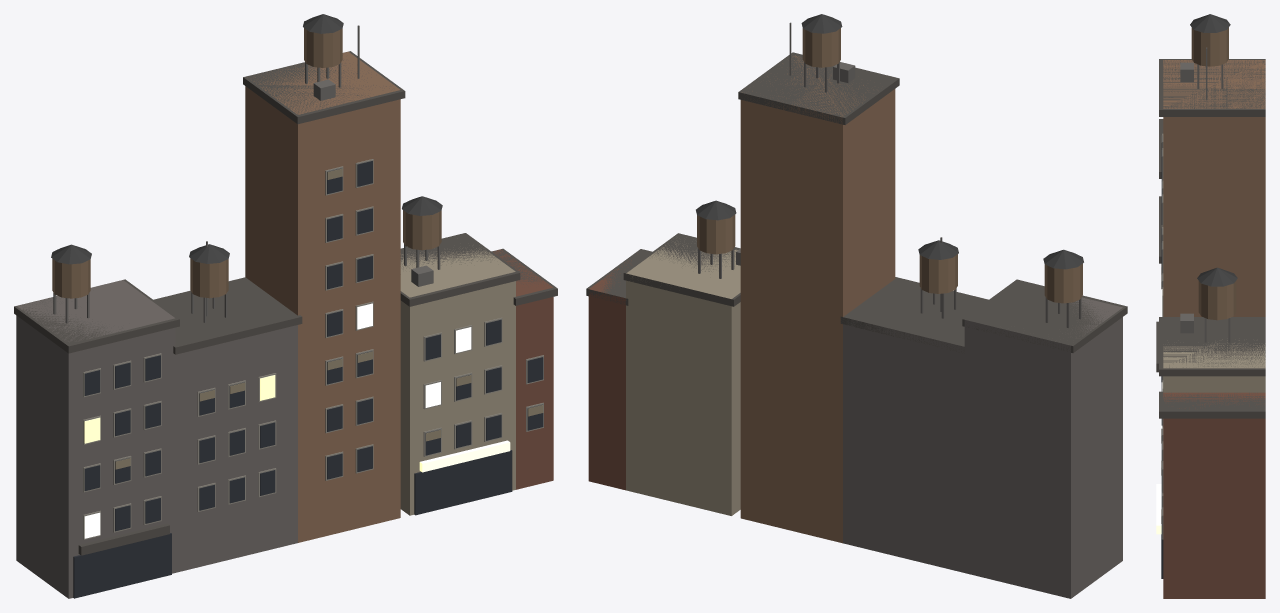
The model's file is backdrop_skyline_b.glb.
3 renders of one model, left to right at view 1: azimuth 30°, elevation 25°; view 2: azimuth 150°, elevation 25°; view 3: azimuth 270°, elevation 25°, orthographic. The views are drawn at different scales.
Visible parts, largest first — view 1: backdrop_skyline_b; view 2: backdrop_skyline_b; view 3: backdrop_skyline_b.
Part boxes in pixels (x1,y1,x2,y2): backdrop_skyline_b: (14, 14, 557, 598); backdrop_skyline_b: (586, 14, 1127, 598); backdrop_skyline_b: (1156, 14, 1265, 598).
Size of the model in its own units: 32.3 by 31.5 by 6.4.
